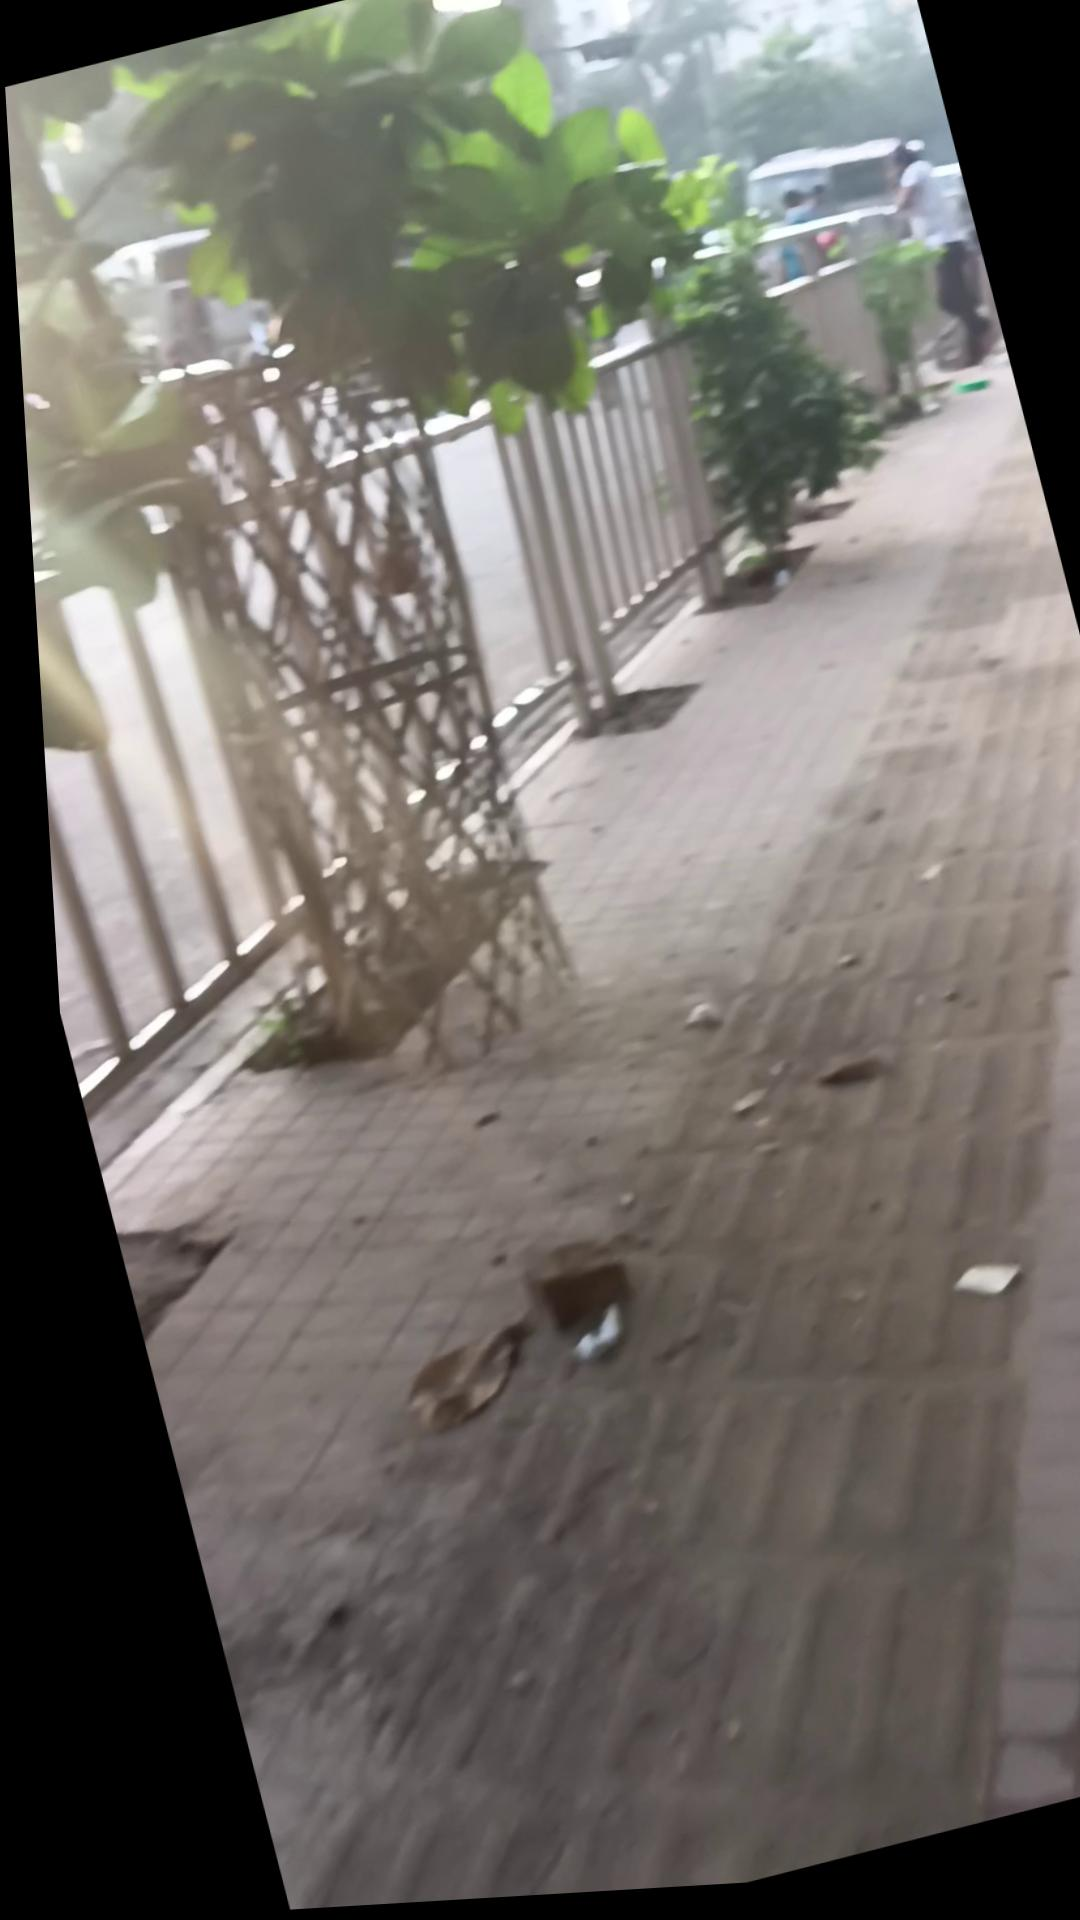Fallen-tree: (92, 298, 587, 1113)
Muddy road: (870, 141, 997, 390)
Potted-plant: (18, 338, 1080, 1920)
